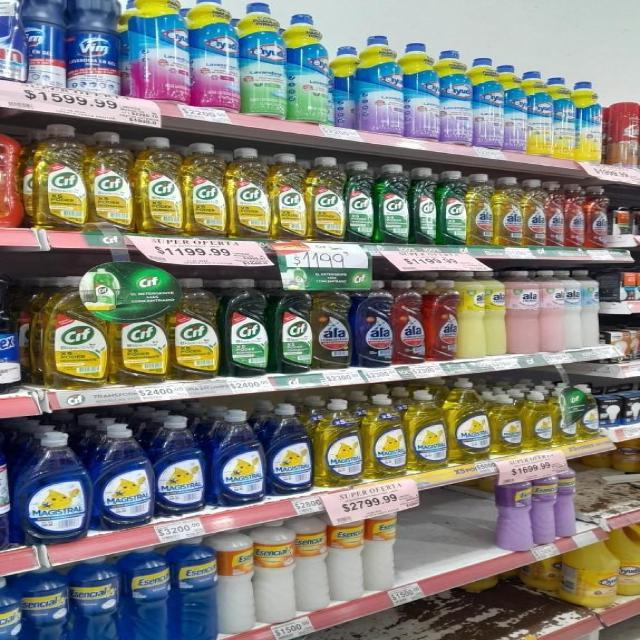ala_conc_amarillo: (313, 281, 352, 370), (494, 176, 522, 247), (467, 172, 493, 246), (522, 178, 545, 247)
ala_conc_azul: (353, 279, 392, 368)
ala_conc_rojo: (393, 279, 424, 364), (426, 279, 457, 362), (586, 185, 609, 249), (546, 180, 565, 247), (566, 183, 585, 248)
ala_crem_amarillo: (458, 272, 484, 360), (485, 270, 506, 356)
ala_crem_blanco: (256, 519, 294, 624), (218, 528, 255, 635), (582, 269, 600, 348), (564, 271, 582, 350)
ala_crem_rosado: (508, 271, 539, 355), (540, 270, 564, 353)
cif_conc_bot_amarilla: (36, 275, 107, 389), (32, 122, 85, 230), (172, 276, 220, 381), (88, 130, 133, 233), (136, 136, 182, 235), (110, 308, 168, 385), (183, 141, 226, 237), (227, 146, 268, 240), (270, 152, 306, 240), (308, 156, 343, 242)
cif_conc_botella_verde: (222, 278, 270, 377), (272, 277, 312, 374), (376, 163, 409, 244), (344, 160, 374, 243), (438, 169, 466, 245), (411, 166, 436, 244)
heroe: (328, 509, 363, 602), (363, 504, 396, 592)
magistral_con_amarillo: (315, 397, 362, 487), (364, 392, 405, 479), (448, 382, 489, 464), (407, 389, 446, 472), (491, 390, 522, 456), (524, 389, 552, 451), (553, 385, 576, 446), (577, 384, 599, 442)
magistral_con_azul: (16, 429, 89, 544), (92, 422, 152, 530), (210, 407, 264, 507), (154, 415, 206, 516), (267, 401, 312, 496)
